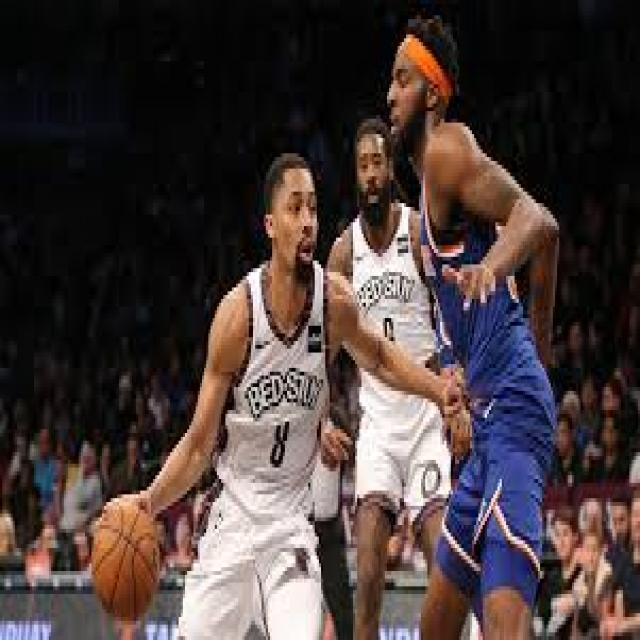rim: (87, 494, 162, 614)
